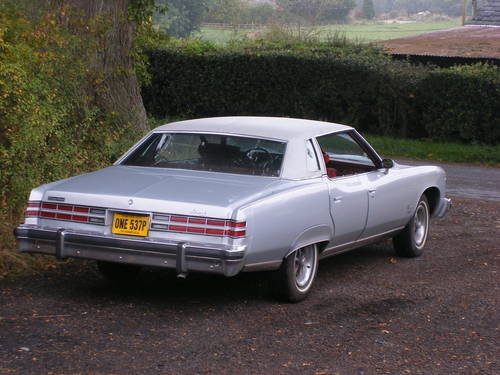Car: (14, 108, 454, 306)
